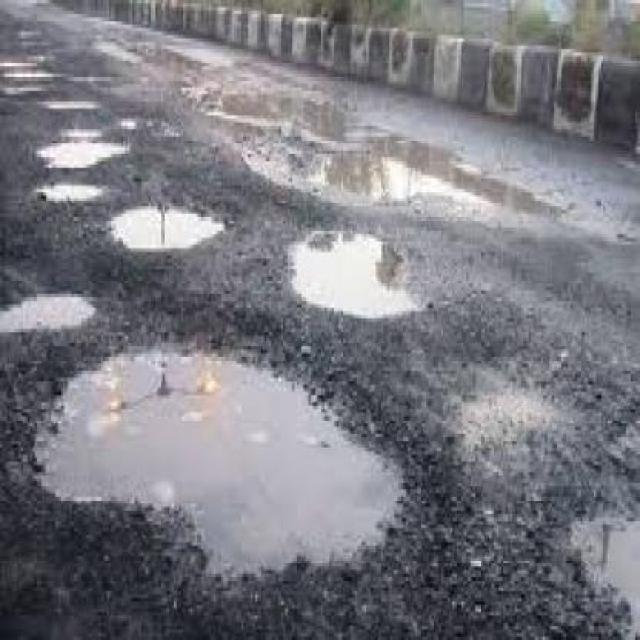pothole: (21, 322, 419, 598), (275, 218, 434, 314), (102, 188, 230, 252), (0, 269, 103, 337)
